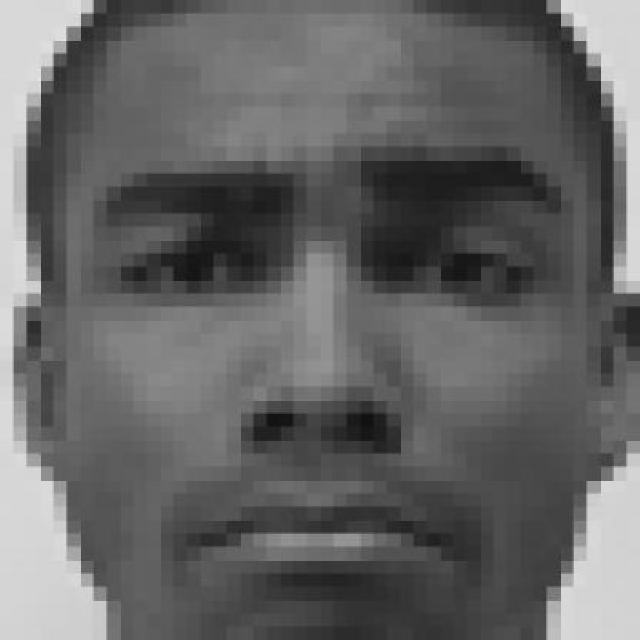sadness: (0, 35, 640, 640)
